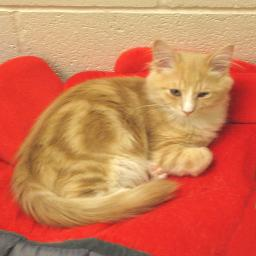catnose: (182, 106, 195, 118)
